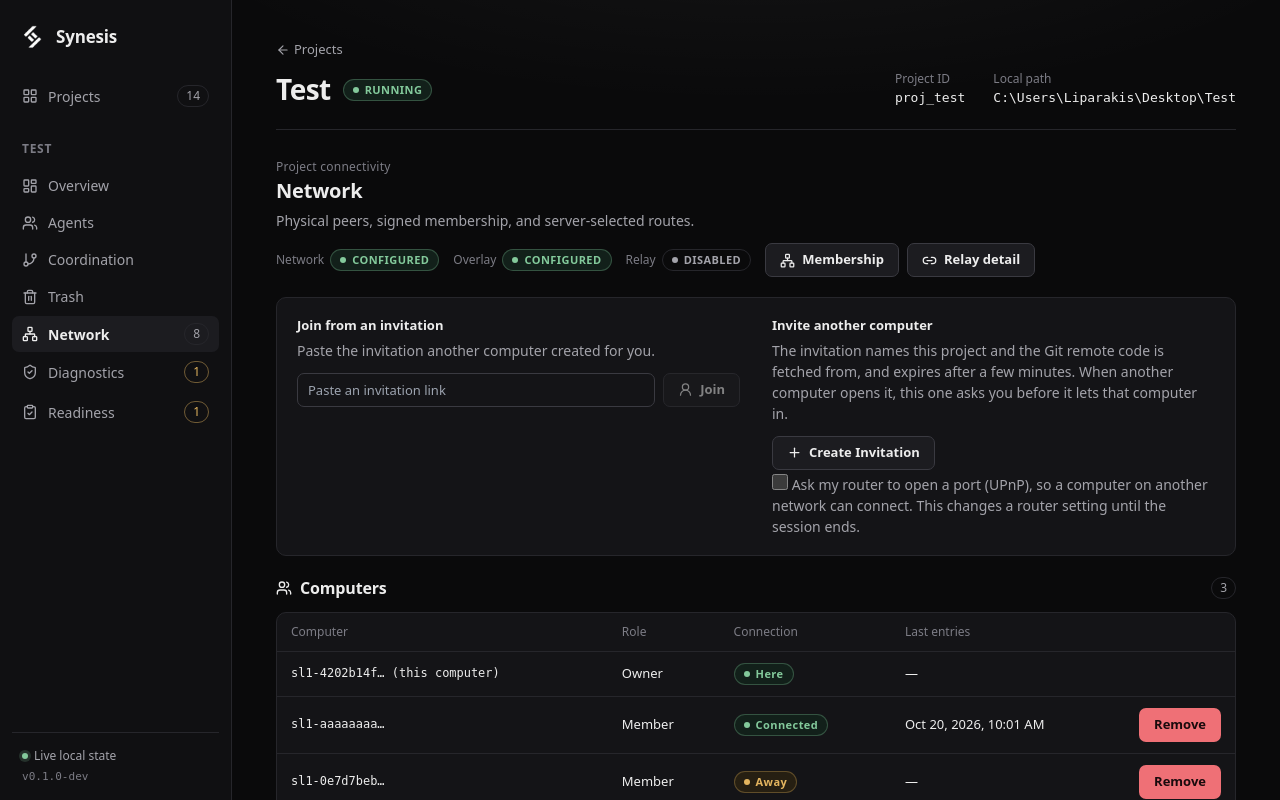
Test: the project's computers › removes nobody when the person cancels
The width and height of the screenshot is (1280, 800).
Expected: the heading "Computers" is shown, 276,576 -> 387,600
Click the button with aria-label "Remove sl1-0e7d7beb…": (1180, 782) 1139,765 -> 1221,799
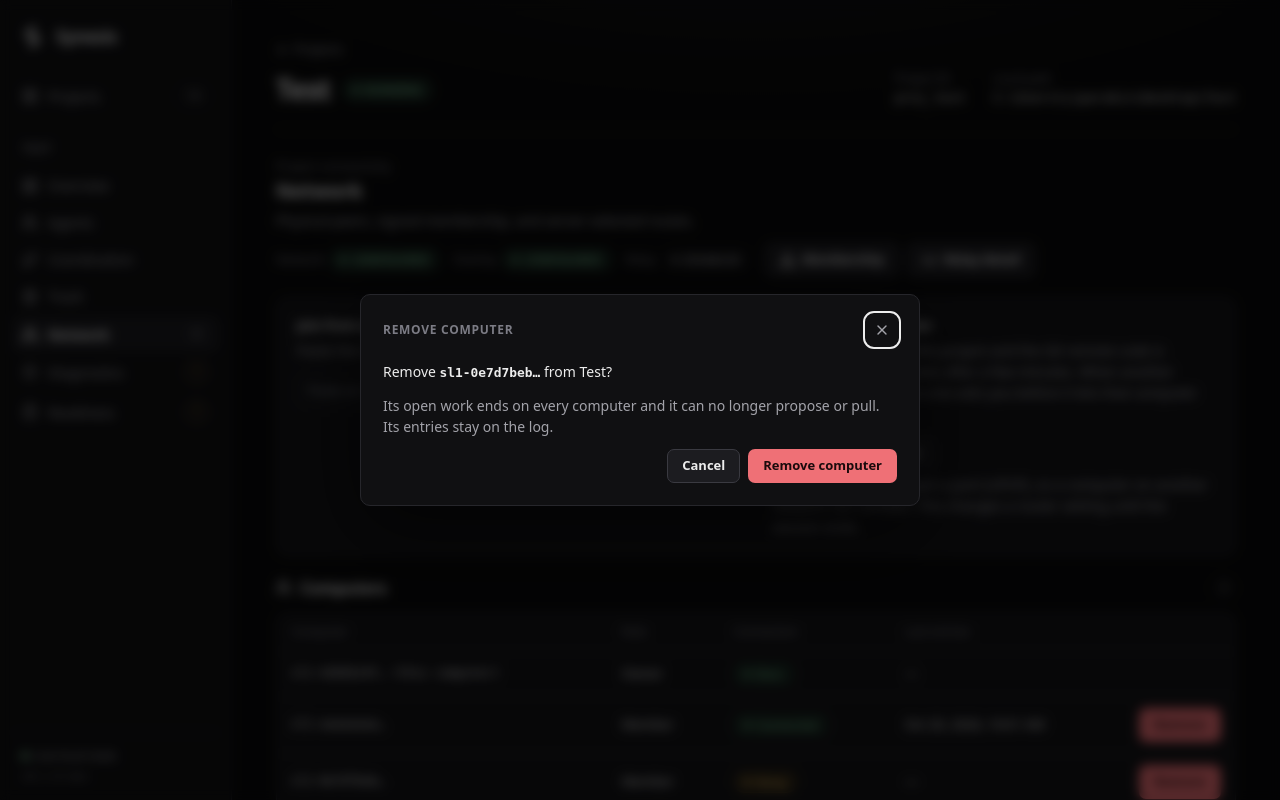
Click the button "Cancel": (704, 466) 667,449 -> 740,483
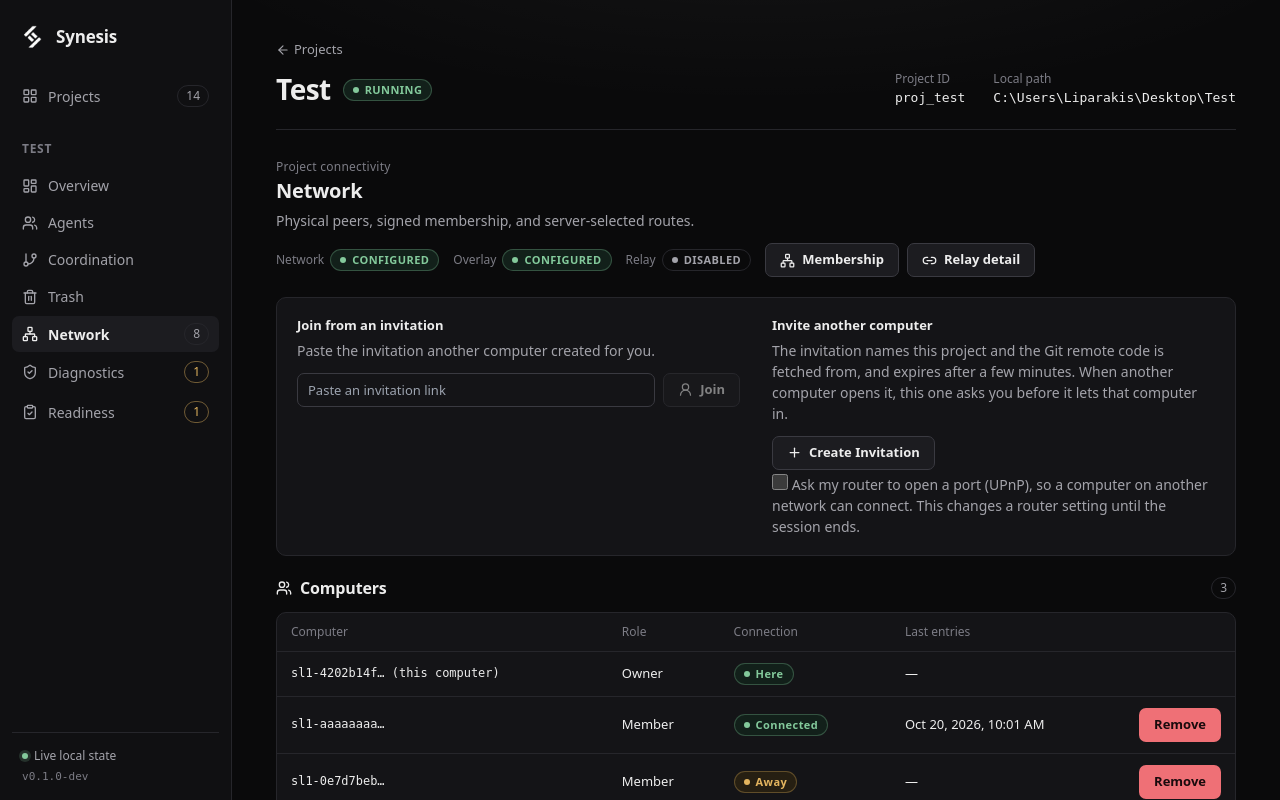
Expected: the dialog is gone
